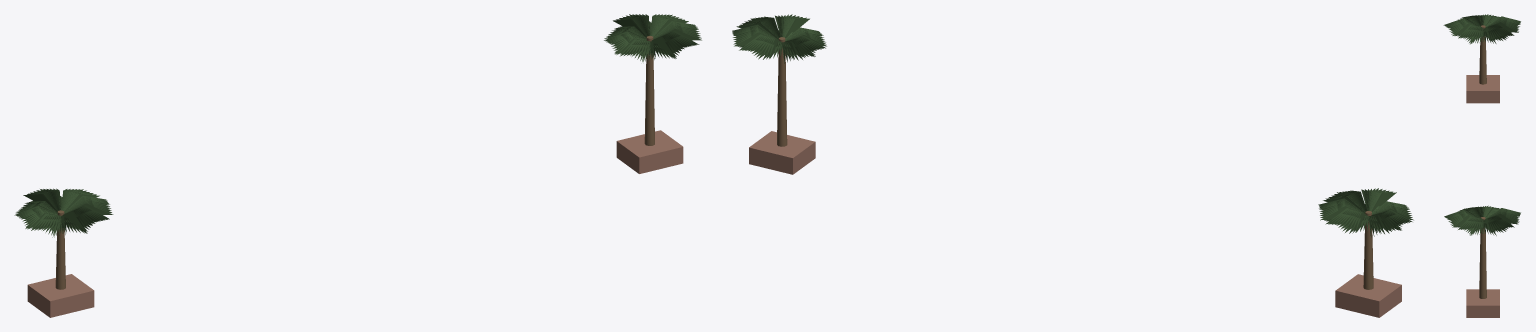
File: parliament-palms.glb
3 renders of one model, left to right at view 1: azimuth 30°, elevation 25°; view 2: azimuth 150°, elevation 25°; view 3: azimuth 270°, elevation 25°, orthographic. The views are drawn at different scales.
Parts seen in each view (by area): view 1: part-1, part-2, part-0; view 2: part-1, part-2, part-0; view 3: part-1, part-2, part-0.
Boxes of the visible parts, bbox=[...] form: part-1: bbox=[14, 14, 701, 237]; part-2: bbox=[27, 130, 683, 317]; part-0: bbox=[55, 36, 654, 289]; part-1: bbox=[732, 14, 1413, 237]; part-2: bbox=[749, 131, 1401, 317]; part-0: bbox=[777, 37, 1373, 289]; part-1: bbox=[1443, 14, 1520, 235]; part-2: bbox=[1466, 75, 1499, 317]; part-0: bbox=[1479, 25, 1486, 298].
Size of the model in its own units: 27.49 by 5.2 by 3.71.
